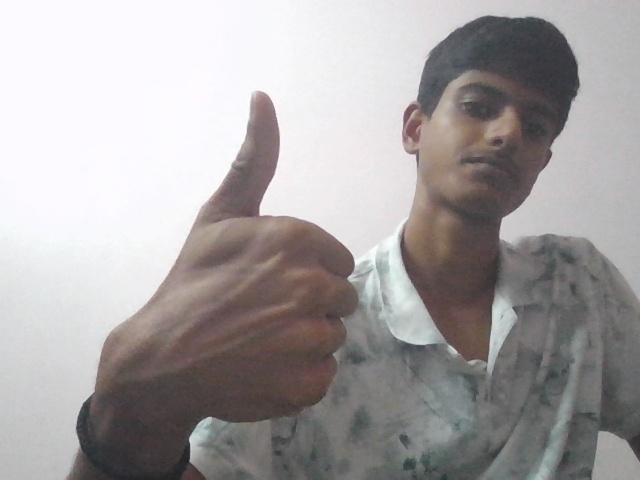thanks: (97, 61, 363, 420)
